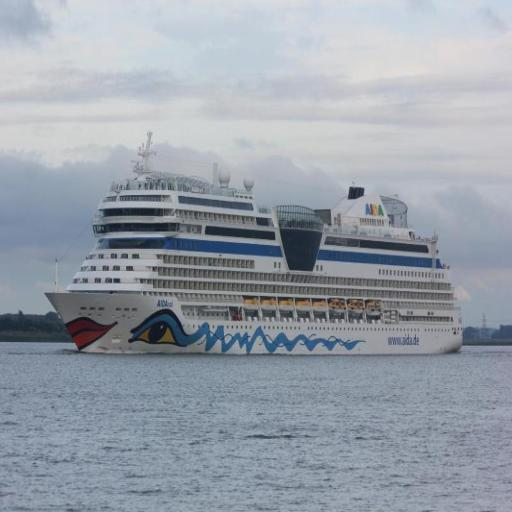cruises: (43, 131, 466, 360)
